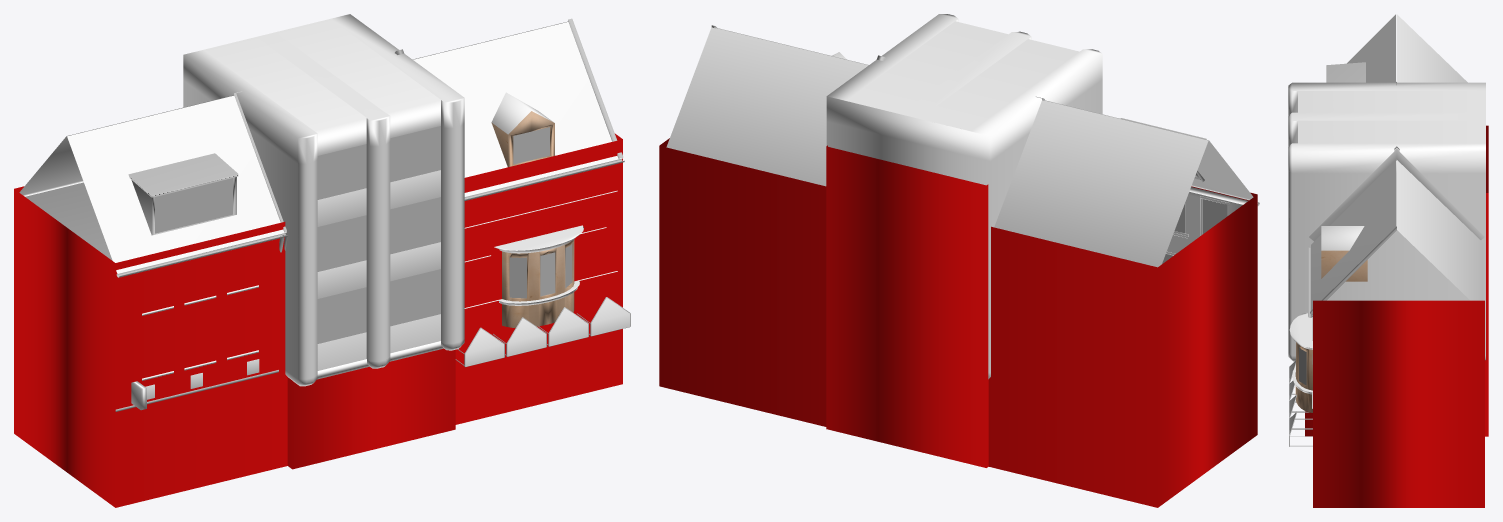
The model's file is geschaefte_04.fbx.
3 views of the same model, side by side, from view 1: azimuth 30°, elevation 25°; view 2: azimuth 150°, elevation 25°; view 3: azimuth 270°, elevation 25° (orthographic). The views are drawn at different scales.
Parts seen in each view (by area): view 1: colmesh_geschaefte_04b, geschaefte_04a, geschaefte_04b, colmesh_geschaefte_04a, details_04b; view 2: colmesh_geschaefte_04b, geschaefte_04b, colmesh_geschaefte_04a, geschaefte_04a; view 3: colmesh_geschaefte_04b, geschaefte_04a, geschaefte_04b, colmesh_geschaefte_04a, details_04b.
Boxes of the visible parts, <box> form: colmesh_geschaefte_04b: <box>14,133,622,507</box>; geschaefte_04a: <box>183,14,464,386</box>; geschaefte_04b: <box>19,18,630,411</box>; colmesh_geschaefte_04a: <box>287,348,455,469</box>; details_04b: <box>116,159,630,367</box>; colmesh_geschaefte_04b: <box>659,138,1257,507</box>; geschaefte_04b: <box>666,25,1257,267</box>; colmesh_geschaefte_04a: <box>826,145,988,467</box>; geschaefte_04a: <box>826,14,1102,379</box>; colmesh_geschaefte_04b: <box>1313,300,1484,507</box>; geschaefte_04a: <box>1288,82,1485,361</box>; geschaefte_04b: <box>1289,14,1484,433</box>; colmesh_geschaefte_04a: <box>1305,125,1488,436</box>; details_04b: <box>1289,247,1312,446</box>.
Size of the model in its own units: 1817 by 1165 by 734.
